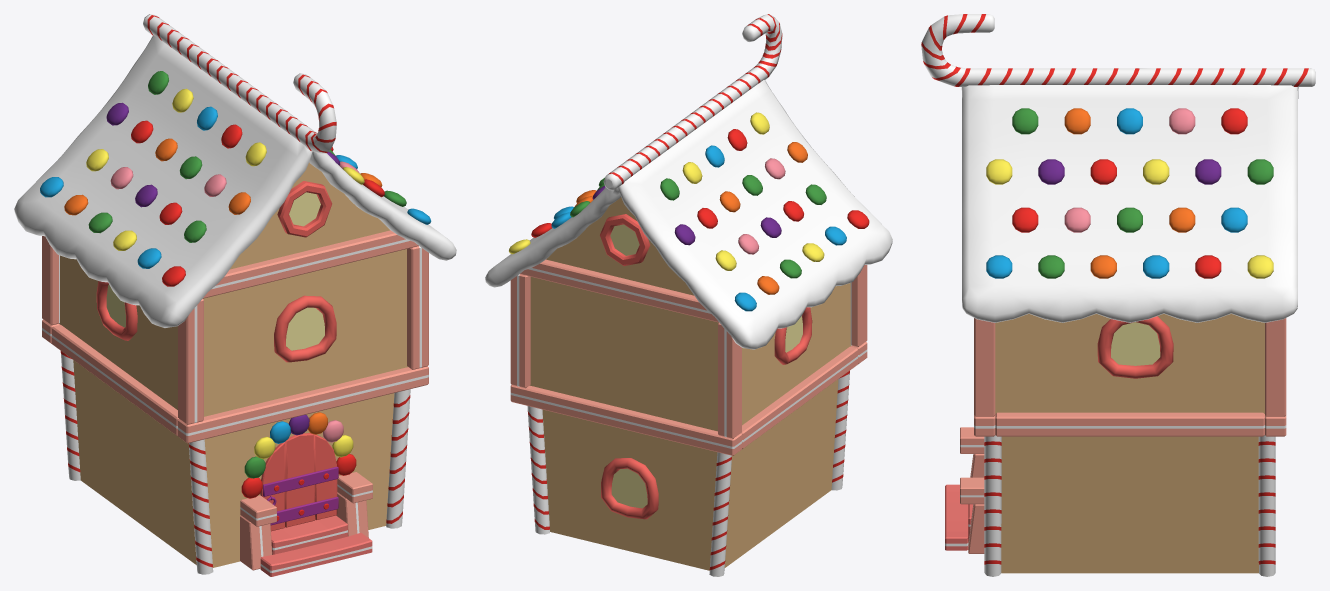
File: House_2.fbx
3 views of the same model, side by side, from view 1: azimuth 30°, elevation 25°; view 2: azimuth 150°, elevation 25°; view 3: azimuth 270°, elevation 25° (orthographic). The views are drawn at different scales.
Parts seen in each view (by area): view 1: House_2; view 2: House_2; view 3: House_2.
Part boxes in pixels (box(x1,y1,x2,y2)): House_2: box(14, 14, 456, 576); House_2: box(485, 14, 892, 576); House_2: box(921, 14, 1315, 576).
Bounding box in the file's own units: 6.52 × 10.07 × 7.06.
